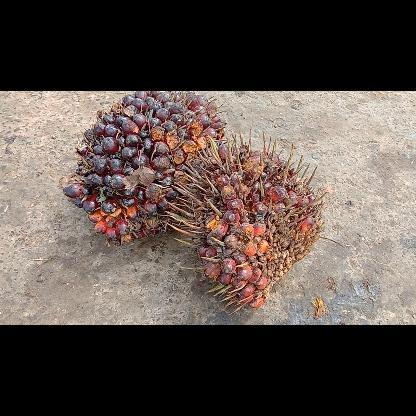Kurang masak: (63, 90, 226, 246)
TBS masak: (164, 128, 326, 314)
